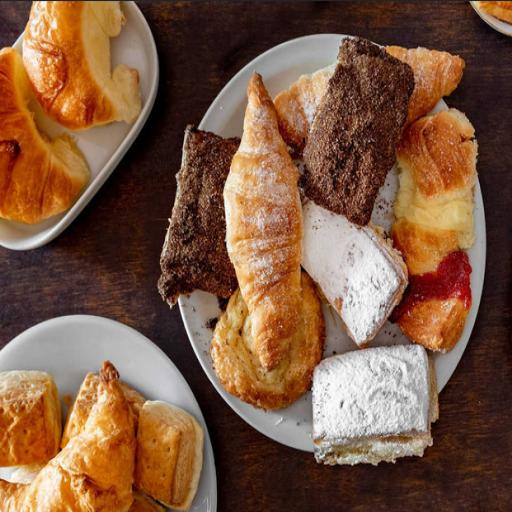bolleria: (224, 73, 302, 369), (301, 38, 414, 225), (391, 110, 478, 352), (0, 362, 136, 511), (0, 48, 89, 224), (211, 272, 324, 409), (302, 201, 408, 346), (312, 345, 438, 464), (24, 2, 141, 129), (159, 126, 239, 307), (395, 110, 477, 248), (135, 401, 202, 509), (386, 47, 465, 125), (0, 372, 61, 466), (274, 63, 335, 156), (391, 219, 458, 275), (398, 299, 468, 352), (135, 401, 170, 503), (61, 373, 98, 448), (154, 431, 182, 488), (474, 2, 511, 24), (129, 489, 164, 511)
